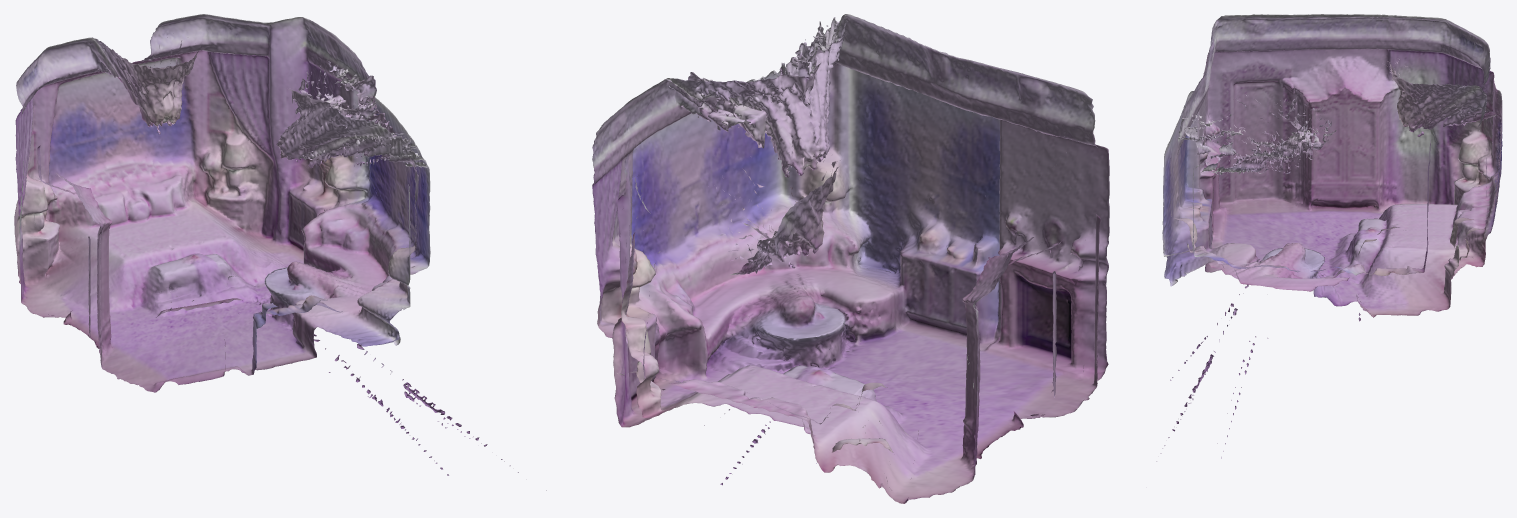
Rendered from swan-lake-suite-1-1-pano_collider.glb.
The picture shows the model from 3 angles, left to right: view 1: azimuth 30°, elevation 25°; view 2: azimuth 150°, elevation 25°; view 3: azimuth 270°, elevation 25°; orthographic projection. The views are drawn at different scales.
Parts seen in each view (by area): view 1: world; view 2: world; view 3: world.
Part boxes in pixels (x1=…): world: x1=14, y1=14, x2=546, y2=490; world: x1=592, y1=14, x2=1109, y2=503; world: x1=1156, y1=14, x2=1502, y2=461.
Bounding box in the file's own units: 6.75 × 6.66 × 6.44.
